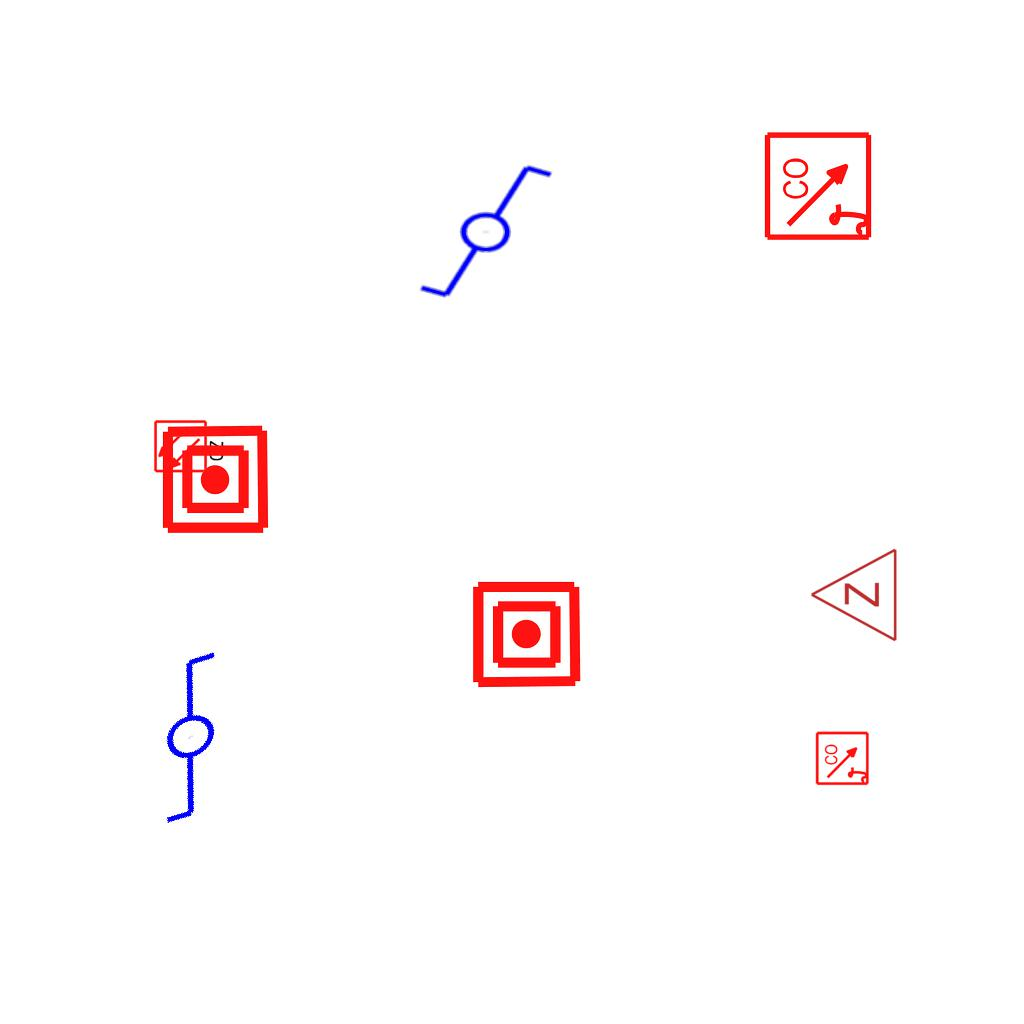NAM-Nichtautomatischer_Melder: (470, 578, 583, 691), (159, 423, 272, 536)
ROA_Rauchmelder_optisch_mit_Signalgeber_(Sockelsirene): (763, 129, 876, 242), (815, 730, 871, 786)
Wechselschalter: (93, 630, 304, 838), (399, 158, 556, 302)
ZD_Melder_in_Zwischendecke_mit_Revisionsoeffnung_mind_40_x_40_cm: (153, 417, 227, 474)
Zimmersignalleuchte: (804, 547, 904, 645)
